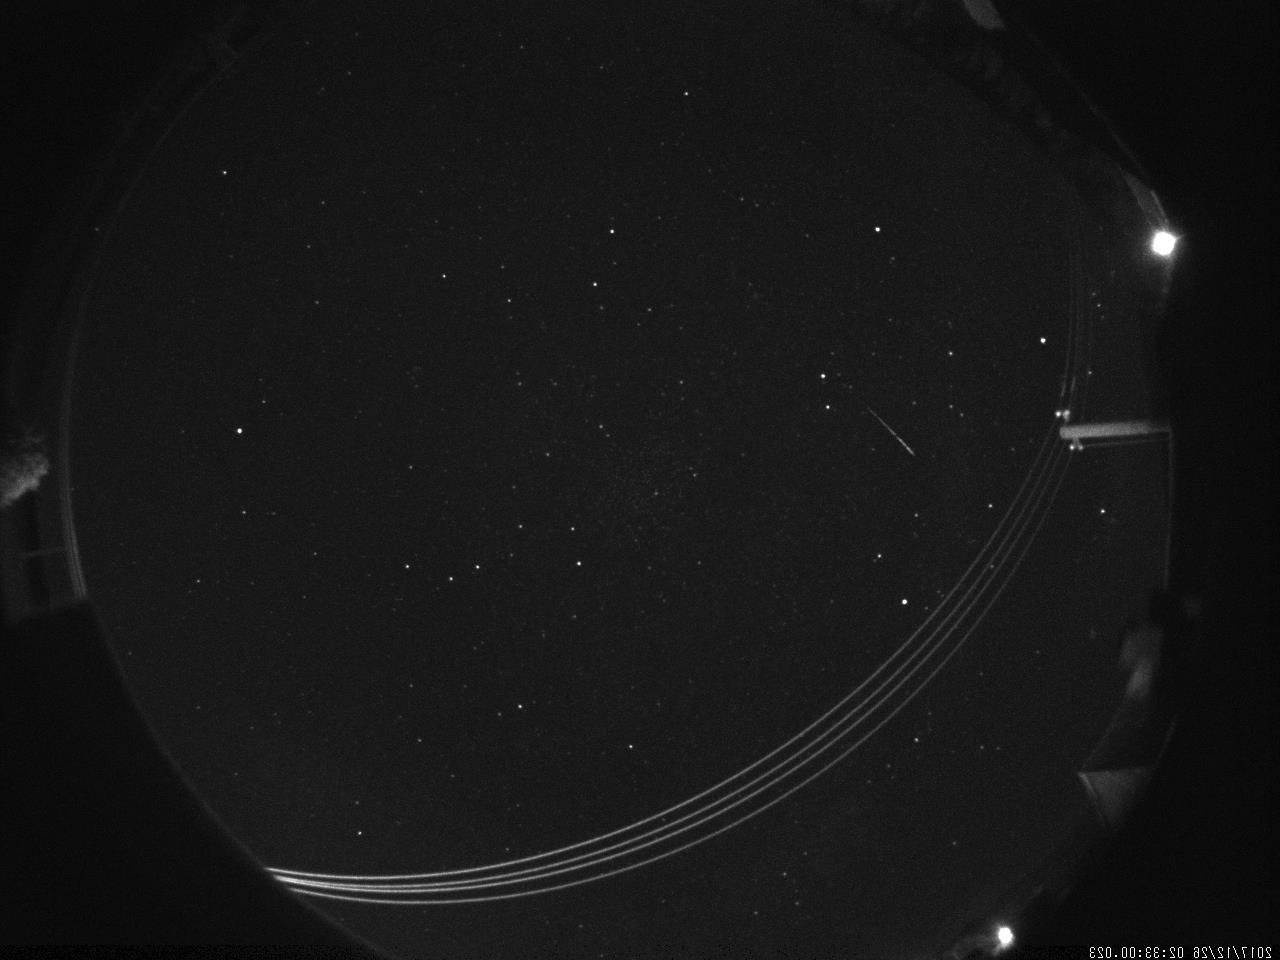meteor: (852, 396, 941, 461)
